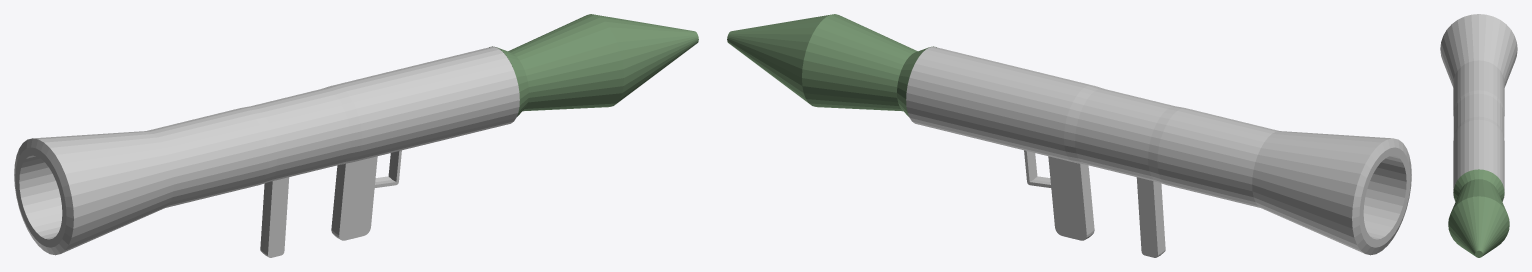
The model's file is rocketlauncher.fbx.
The picture shows the model from 3 angles, left to right: view 1: azimuth 30°, elevation 25°; view 2: azimuth 150°, elevation 25°; view 3: azimuth 270°, elevation 25°; orthographic projection. The views are drawn at different scales.
Visible parts, largest first — view 1: Launcher, Rocket; view 2: Launcher, Rocket; view 3: Launcher, Rocket.
Boxes of the visible parts, <box> form: Launcher: <box>14,46,519,257</box>; Rocket: <box>489,14,698,116</box>; Launcher: <box>906,46,1411,257</box>; Rocket: <box>727,14,936,116</box>; Launcher: <box>1440,14,1517,201</box>; Rocket: <box>1448,169,1509,257</box>.
Size of the model in its own units: 590 by 145 by 93.33.
